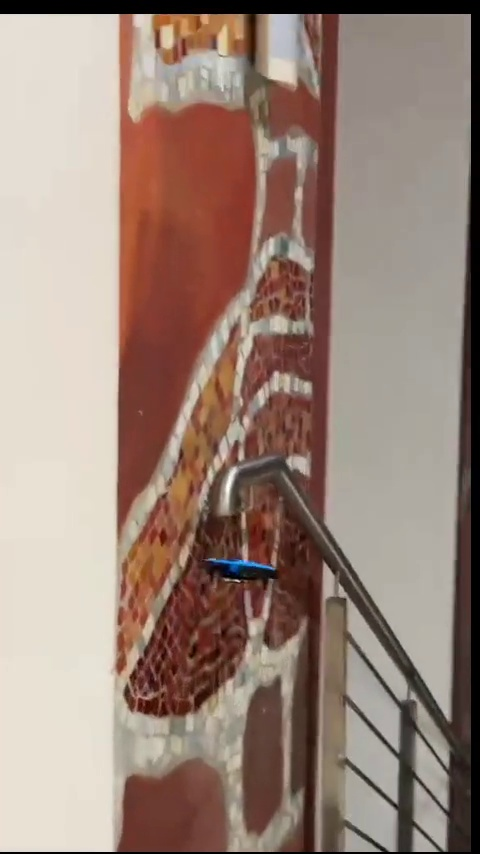drone: (202, 556, 277, 588)
